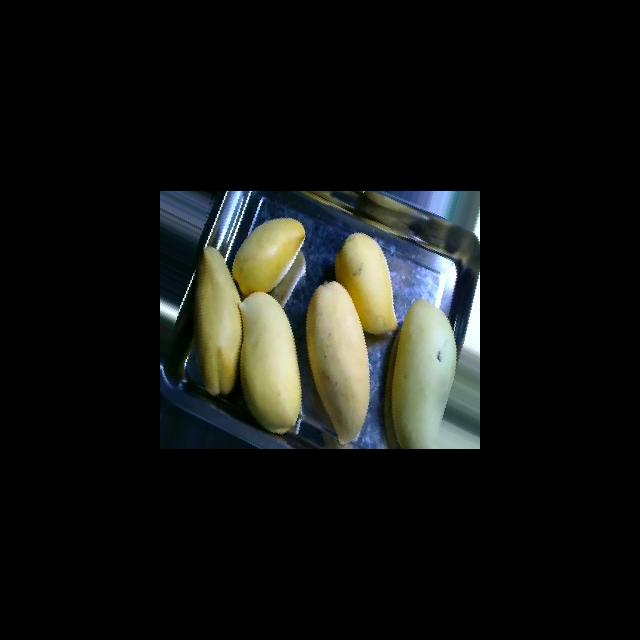mango: (305, 280, 370, 445), (389, 299, 457, 448), (239, 291, 302, 434), (193, 245, 242, 396)
